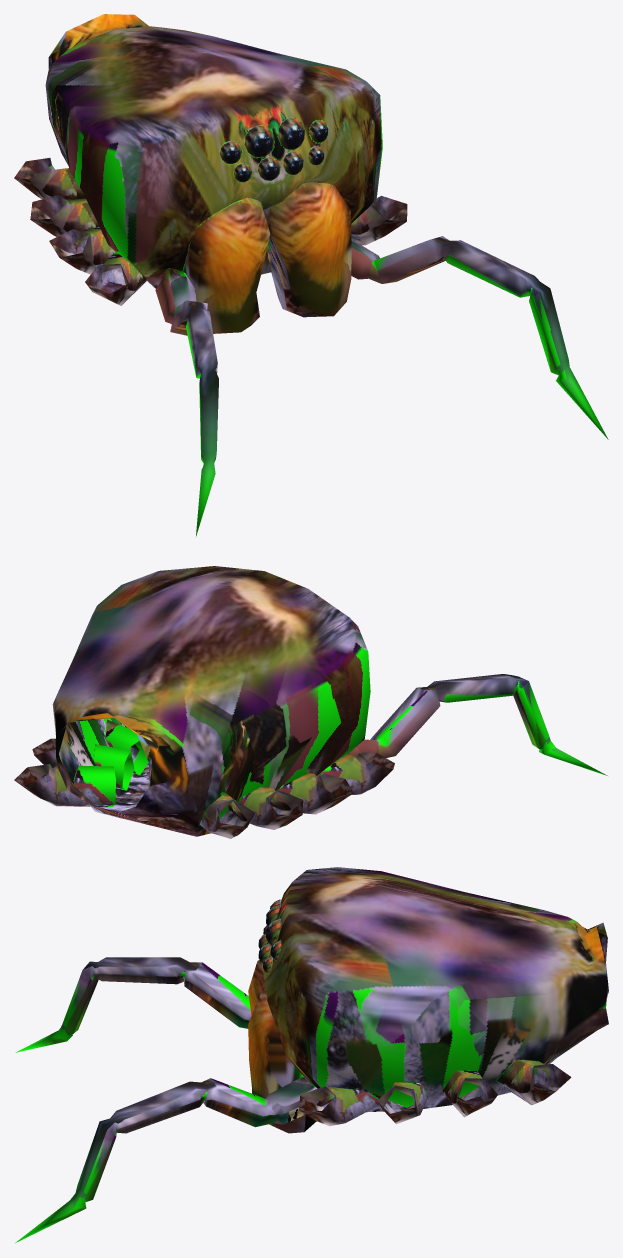
Rendered from spider-core.glb.
3 views of the same model, one above another, from view 1: azimuth 30°, elevation 25°; view 2: azimuth 150°, elevation 25°; view 3: azimuth 270°, elevation 25° (orthographic). The views are drawn at different scales.
Parts seen in each view (by area): view 1: Spiders; view 2: Spiders; view 3: Spiders.
Boxes of the visible parts, bbox=[...] form: Spiders: bbox=[14, 14, 608, 536]; Spiders: bbox=[14, 566, 607, 838]; Spiders: bbox=[15, 867, 608, 1242].
Size of the model in its own units: 0.7748 by 0.5128 by 1.04.
1 material, 1 textured.
